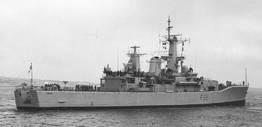warship: (13, 17, 257, 112)
